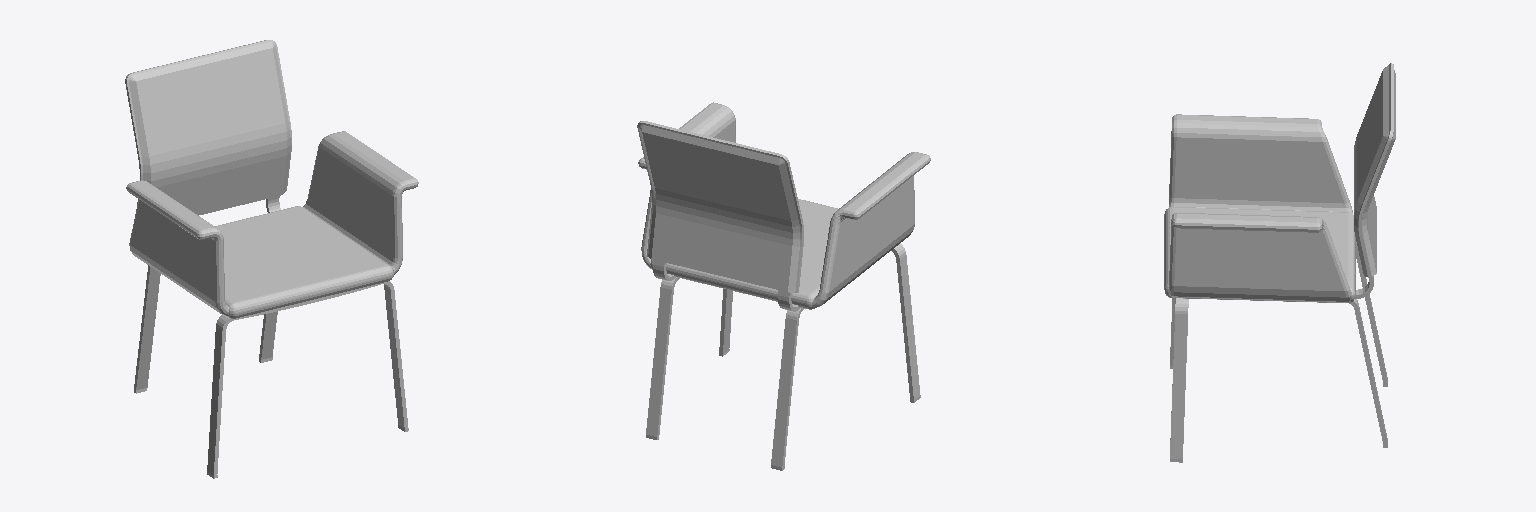
The model's file is chair.obj.
3 views of the same model, side by side, from view 1: azimuth 30°, elevation 25°; view 2: azimuth 150°, elevation 25°; view 3: azimuth 270°, elevation 25° (orthographic).
Visible parts, largest first — view 1: COR_-_Fino_-_1 Fino_Seat_Back, COR_-_Fino_-_1 Fino_Arms_Rest, COR_-_Fino_-_1 Fino_Seat, COR_-_Fino_-_1 Fino_Legs; view 2: COR_-_Fino_-_1 Fino_Seat_Back, COR_-_Fino_-_1 Fino_Arms_Rest, COR_-_Fino_-_1 Fino_Legs, COR_-_Fino_-_1 Fino_Seat; view 3: COR_-_Fino_-_1 Fino_Arms_Rest, COR_-_Fino_-_1 Fino_Seat_Back, COR_-_Fino_-_1 Fino_Legs, COR_-_Fino_-_1 Fino_Seat.
Part boxes in pixels (bbox=[...]): COR_-_Fino_-_1 Fino_Seat_Back: bbox=[125, 40, 291, 215]; COR_-_Fino_-_1 Fino_Arms_Rest: bbox=[126, 131, 418, 316]; COR_-_Fino_-_1 Fino_Seat: bbox=[215, 206, 393, 318]; COR_-_Fino_-_1 Fino_Legs: bbox=[134, 196, 407, 474]; COR_-_Fino_-_1 Fino_Seat_Back: bbox=[637, 121, 803, 292]; COR_-_Fino_-_1 Fino_Arms_Rest: bbox=[638, 102, 930, 308]; COR_-_Fino_-_1 Fino_Legs: bbox=[646, 243, 919, 467]; COR_-_Fino_-_1 Fino_Seat: bbox=[650, 199, 837, 309]; COR_-_Fino_-_1 Fino_Arms_Rest: bbox=[1169, 114, 1353, 302]; COR_-_Fino_-_1 Fino_Seat_Back: bbox=[1354, 63, 1395, 277]; COR_-_Fino_-_1 Fino_Legs: bbox=[1170, 242, 1387, 458]; COR_-_Fino_-_1 Fino_Seat: bbox=[1164, 207, 1355, 302].
Bounding box in the file's own units: 58.4 × 80.22 × 52.81.